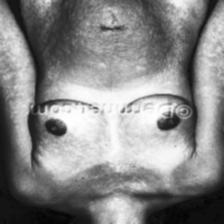Toxin: (30, 0, 180, 82)
